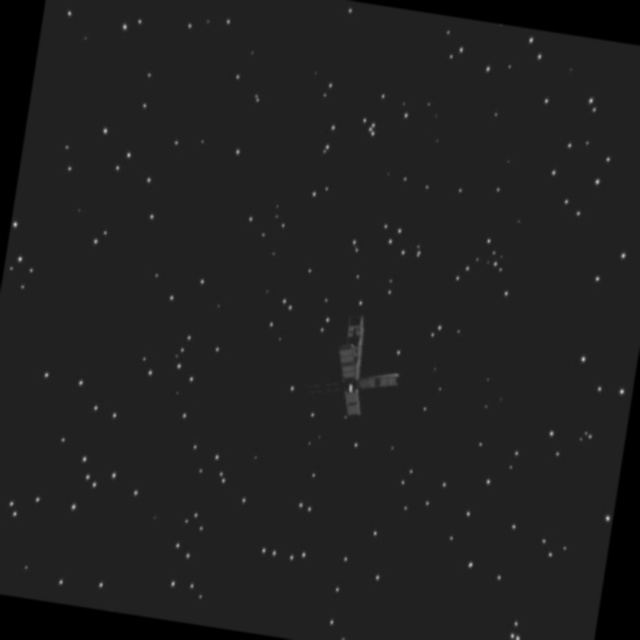medium_debris: (310, 311, 415, 434)
